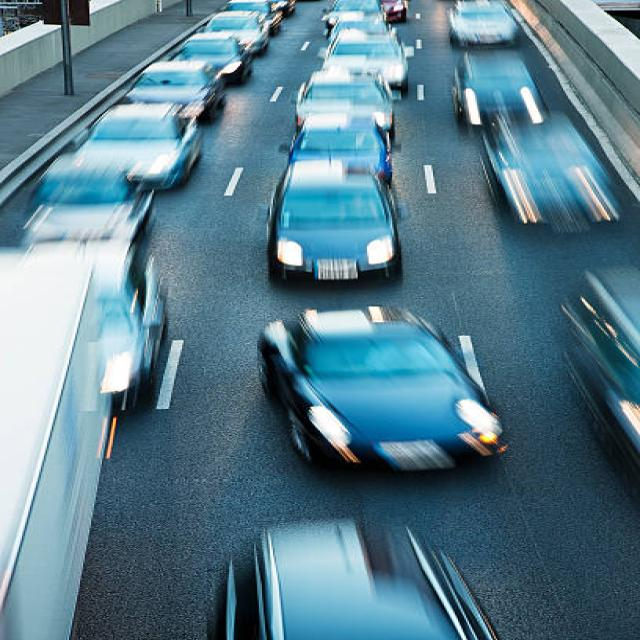moderate_traffic: (55, 0, 586, 640)
